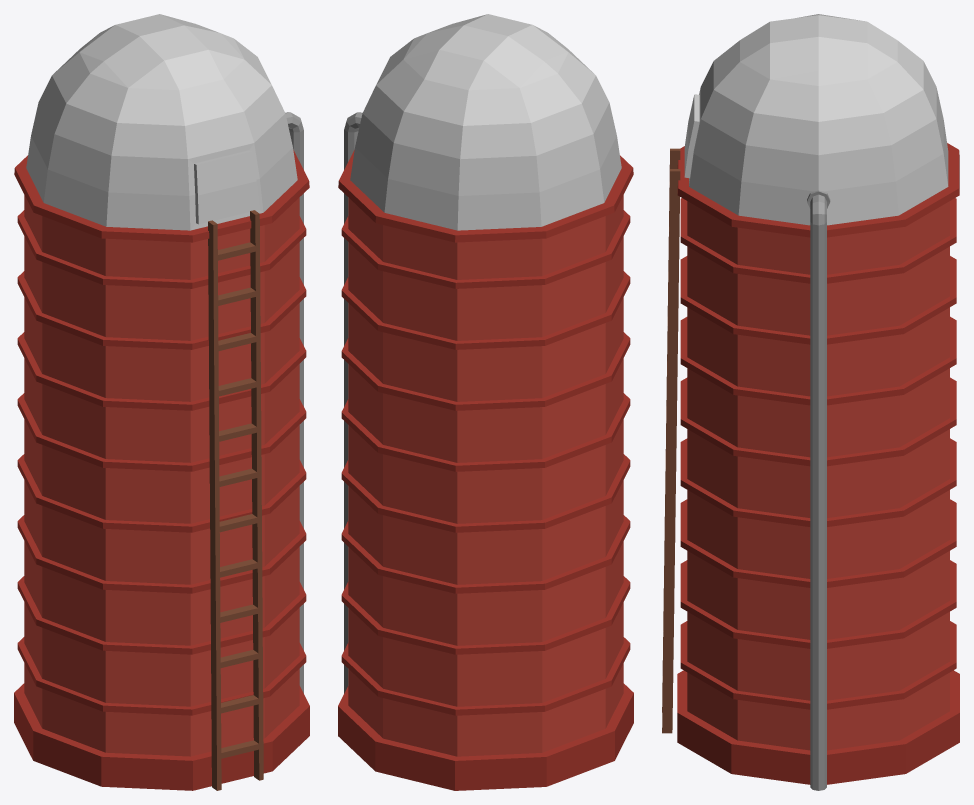
The model's file is silo.glb.
3 renders of one model, left to right at view 1: azimuth 30°, elevation 25°; view 2: azimuth 150°, elevation 25°; view 3: azimuth 270°, elevation 25°, orthographic.
Parts seen in each view (by area): view 1: Silo; view 2: Silo; view 3: Silo.
Boxes of the visible parts, bbox=[...] form: Silo: bbox=[14, 14, 309, 790]; Silo: bbox=[338, 14, 633, 790]; Silo: bbox=[662, 14, 959, 790].
Size of the model in its own units: 3.67 by 9.07 by 3.51.
